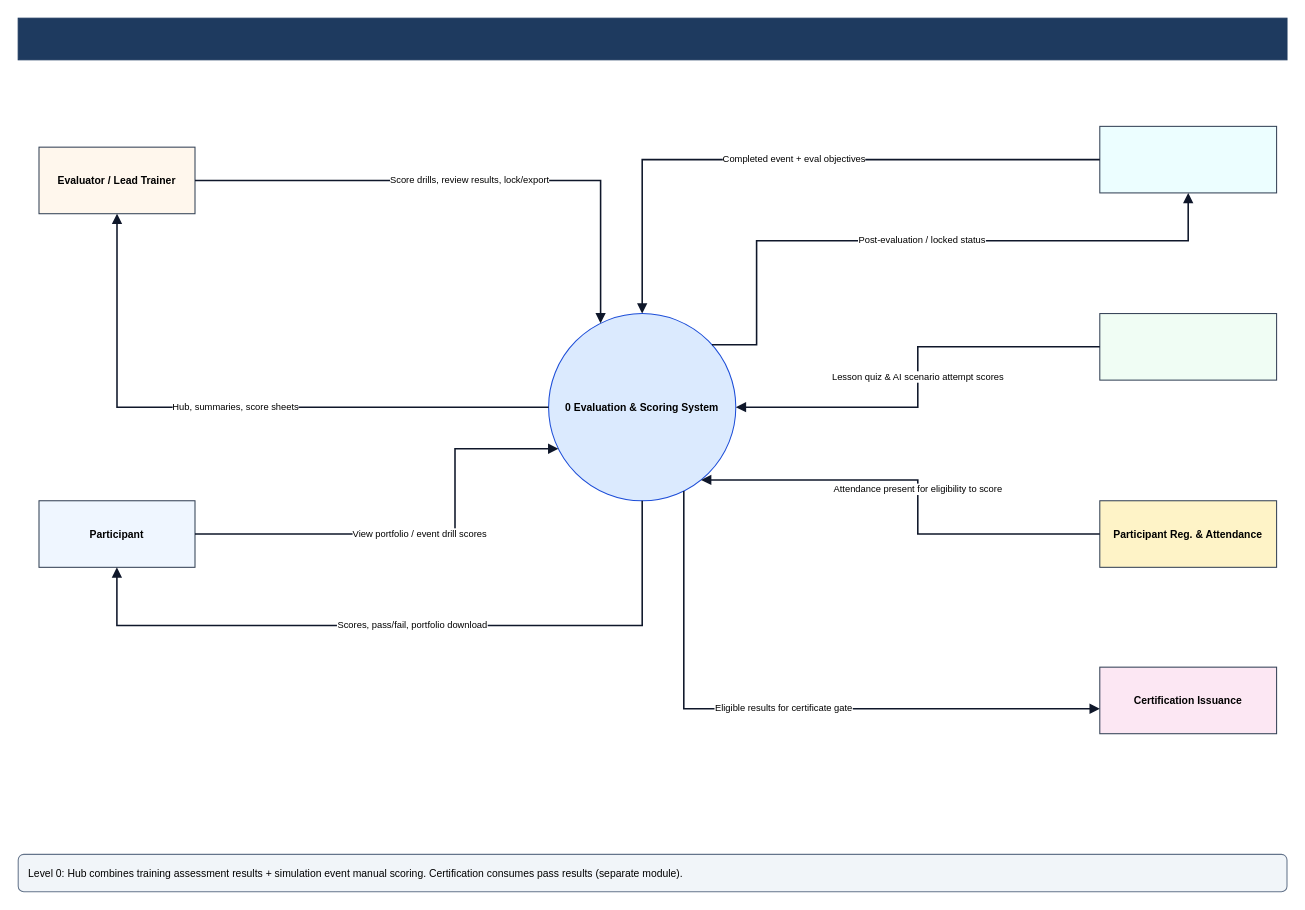
Image size: 1305x910. Some labels were removed from this diagram. Each missing label, with the centre of its shape:
"AI Scenario Training" goes at [1188,346].
"DFD Level 0 — Evaluation & Scoring System (Context)" goes at [652,38].
"Simulation Event Planning" goes at [1188,159].
